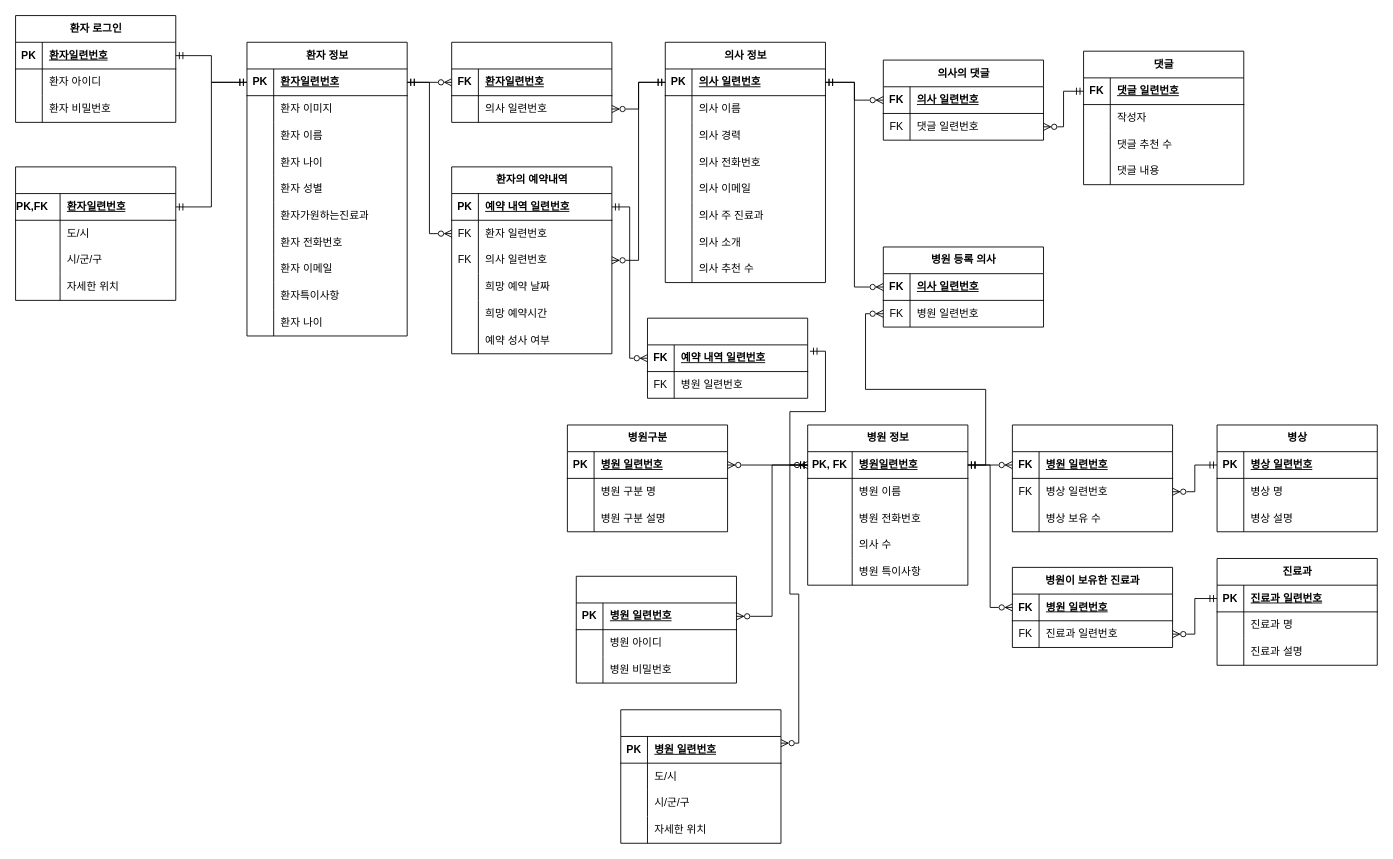
This 1393x859 diagram has some shape labels left out. Each missing label, with the box of its shape:
병원 로그인: (575, 575, 736, 683)
병원 메세지: (647, 317, 808, 398)
병원의 위치: (620, 709, 781, 843)
병원이 보유한 병상: (1011, 424, 1173, 532)
환자 즐겨찾기: (451, 41, 612, 122)
환자의 위치: (15, 166, 176, 300)
